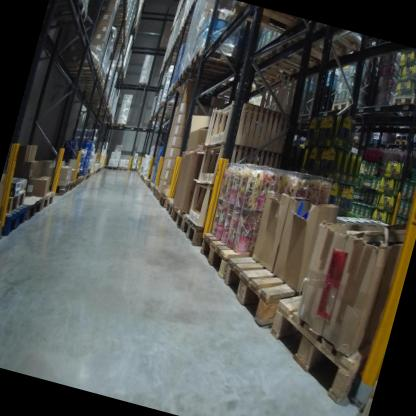pallet: (208, 207, 368, 359), (255, 253, 399, 410), (193, 218, 282, 298), (223, 45, 316, 97), (263, 30, 338, 86), (231, 2, 302, 41), (189, 45, 251, 79), (176, 210, 222, 254), (170, 70, 227, 103), (178, 58, 228, 91), (59, 57, 106, 90), (0, 178, 33, 224), (50, 0, 93, 35), (56, 50, 102, 81), (383, 84, 416, 115), (0, 206, 26, 243), (76, 70, 108, 96), (44, 178, 70, 205), (22, 192, 43, 224), (331, 94, 354, 121), (168, 203, 188, 234), (37, 184, 56, 213), (157, 189, 173, 210), (152, 185, 166, 207), (164, 197, 176, 222), (63, 177, 75, 195), (103, 161, 118, 175), (135, 78, 149, 91), (68, 176, 79, 192), (115, 118, 128, 130), (150, 181, 158, 199), (117, 161, 130, 172), (146, 180, 155, 194), (128, 163, 140, 173), (143, 176, 150, 189), (141, 175, 147, 186), (147, 179, 153, 188)
